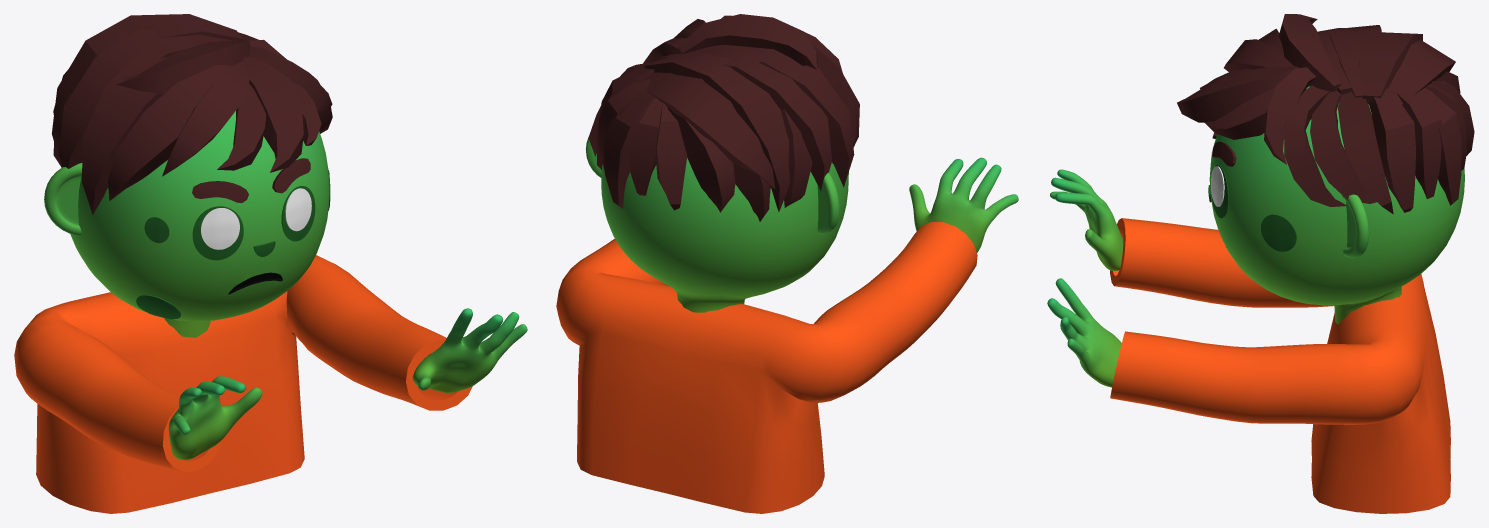
Rendered from zombie.fbx.
3 renders of one model, left to right at view 1: azimuth 30°, elevation 25°; view 2: azimuth 150°, elevation 25°; view 3: azimuth 270°, elevation 25°, orthographic. The views are drawn at different scales.
Parts seen in each view (by area): view 1: Circle.1092, Cube.2715, Roundcube.235, hand.181, hand.179, Circle.1089, Cylinder.198, Circle.1091, Circle.1094, Circle.1093; view 2: Circle.1092, Cube.2715, Roundcube.235, hand.179, Cylinder.198; view 3: Circle.1092, Cube.2715, Roundcube.235, hand.181, hand.179, Cylinder.198, Circle.1093, Circle.1089.
Part boxes in pixels (x1,y1,x2,y2): Circle.1092: (14, 255, 472, 513); Cube.2715: (51, 14, 332, 214); Roundcube.235: (61, 111, 329, 337); hand.181: (412, 308, 527, 392); hand.179: (168, 376, 262, 459); Circle.1089: (201, 188, 311, 249); Cylinder.198: (44, 163, 82, 235); Circle.1091: (192, 158, 310, 202); Circle.1094: (192, 186, 315, 260); Circle.1093: (136, 170, 330, 319); Circle.1092: (556, 222, 977, 513); Cube.2715: (588, 14, 859, 221); Roundcube.235: (601, 158, 848, 312); hand.179: (909, 157, 1018, 252); Cylinder.198: (585, 137, 839, 234); Circle.1092: (1110, 218, 1450, 513); Cube.2715: (1177, 14, 1474, 214); Roundcube.235: (1209, 86, 1464, 324); hand.181: (1047, 278, 1121, 387); hand.179: (1050, 169, 1123, 270); Cylinder.198: (1342, 194, 1369, 258); Circle.1093: (1261, 214, 1296, 251); Circle.1089: (1211, 139, 1224, 206).
Size of the model in its own units: 193 by 238 by 216.
1 material, 1 textured.
